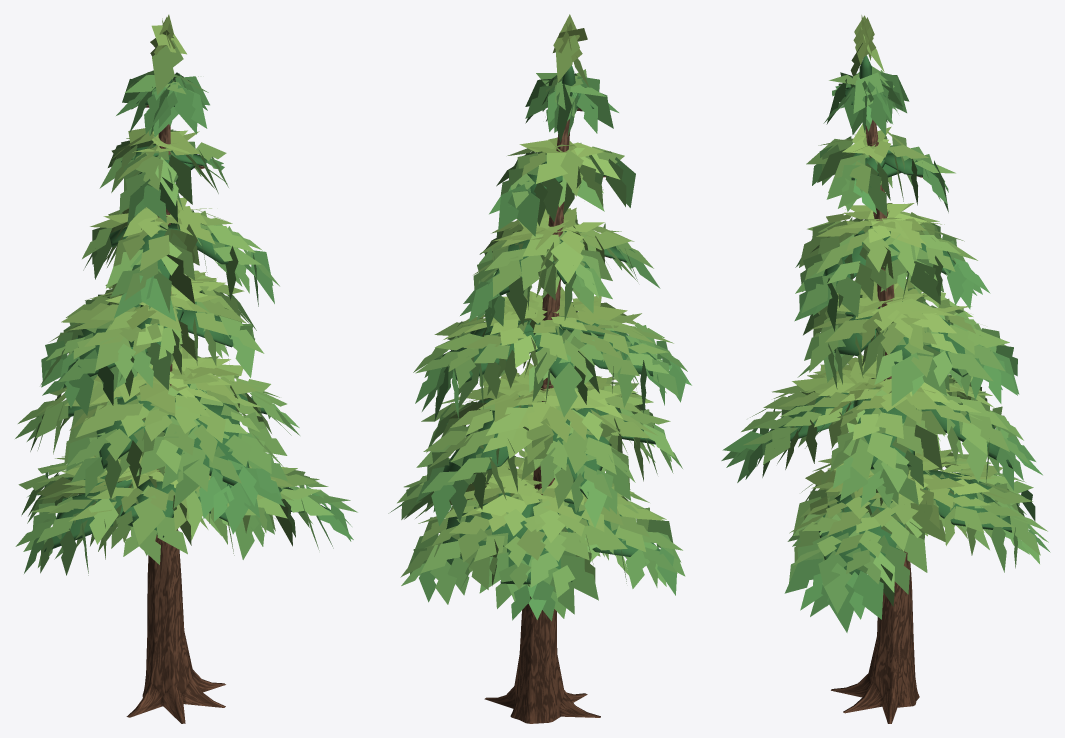
The model's file is conifer_1.glb.
The picture shows the model from 3 angles, left to right: view 1: azimuth 30°, elevation 25°; view 2: azimuth 150°, elevation 25°; view 3: azimuth 270°, elevation 25°; orthographic projection. The views are drawn at different scales.
Parts seen in each view (by area): view 1: conifer_1; view 2: conifer_1; view 3: conifer_1.
Boxes of the visible parts, x1,y1,x2,y2 form: conifer_1: [15, 14, 357, 723]; conifer_1: [388, 14, 691, 723]; conifer_1: [721, 15, 1050, 723].
Bounding box in the file's own units: 4.4 × 9.5 × 4.2.
2 materials, 2 textured.
